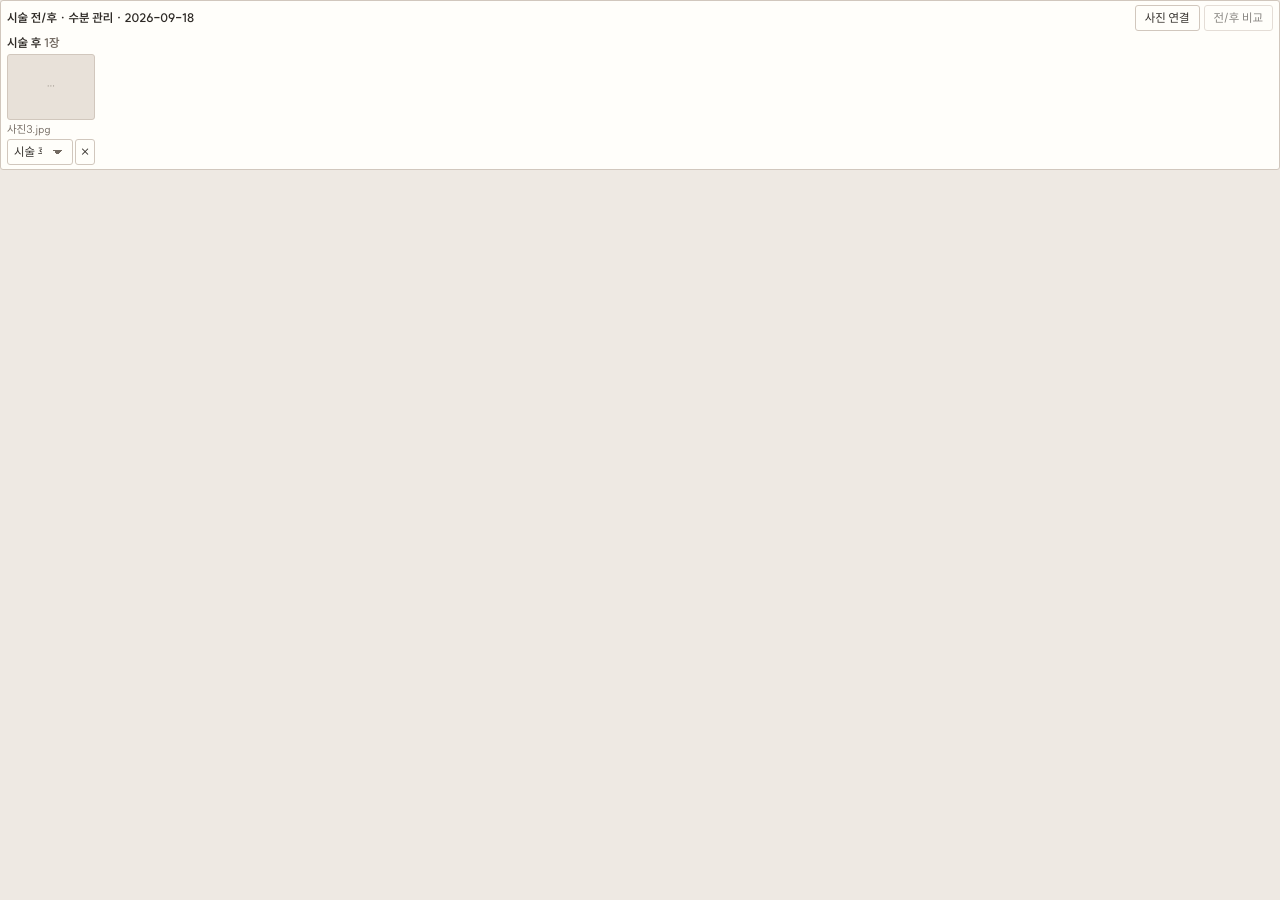
Test case: TreatmentPhotoLinks · 연결·변경·해제 › 고객 사진에서 골라 시술 전으로 연결한다(저장 경로를 재사용하고 중복 업로드 없음)
Expected: the element named "시술 후 사진" is shown, [7,35,95,165]
Click the button "사진 연결": point(1167, 18) [1135,5,1200,31]
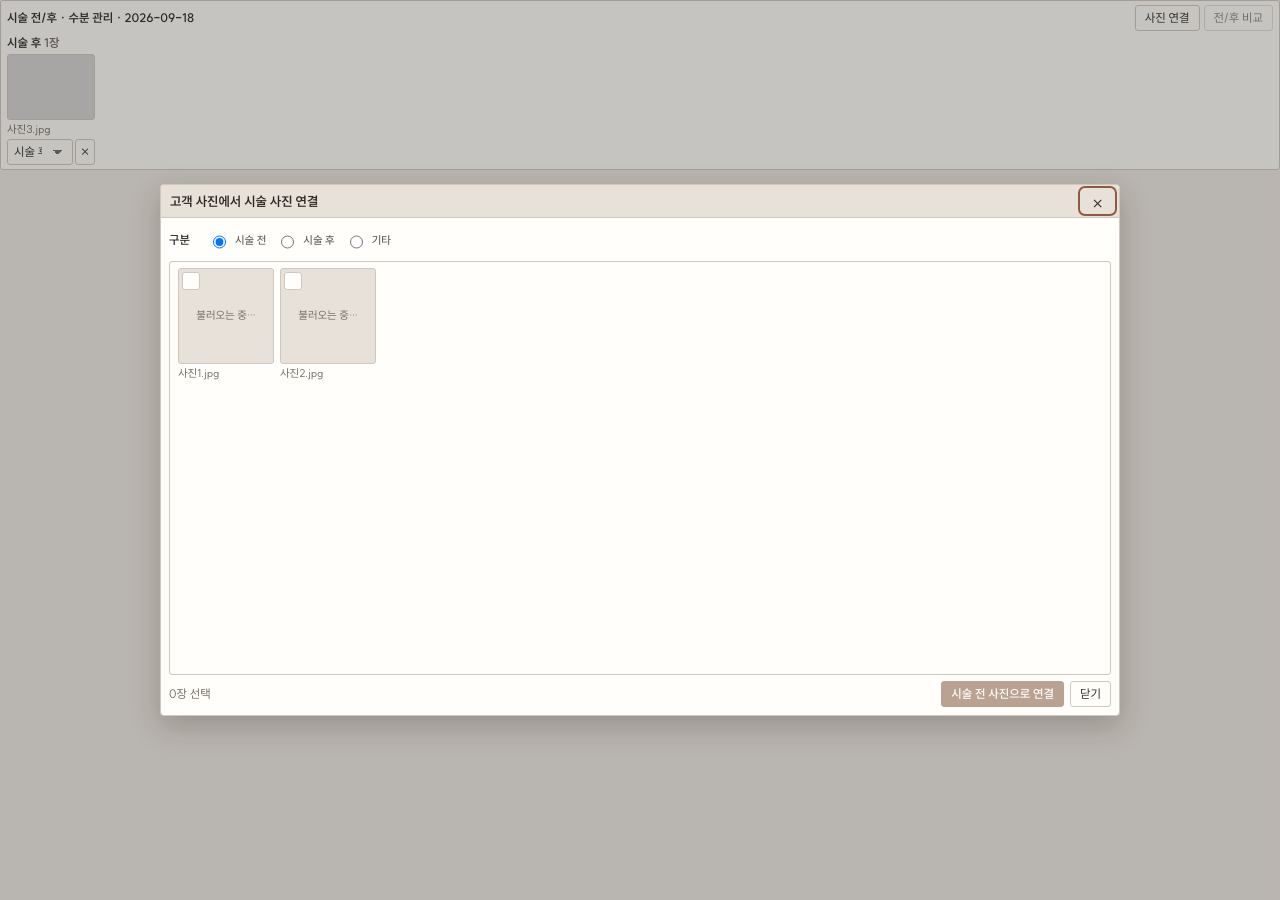
Click the button with aria-label "사진1.jpg 선택": point(226, 316) [178,268,274,364]
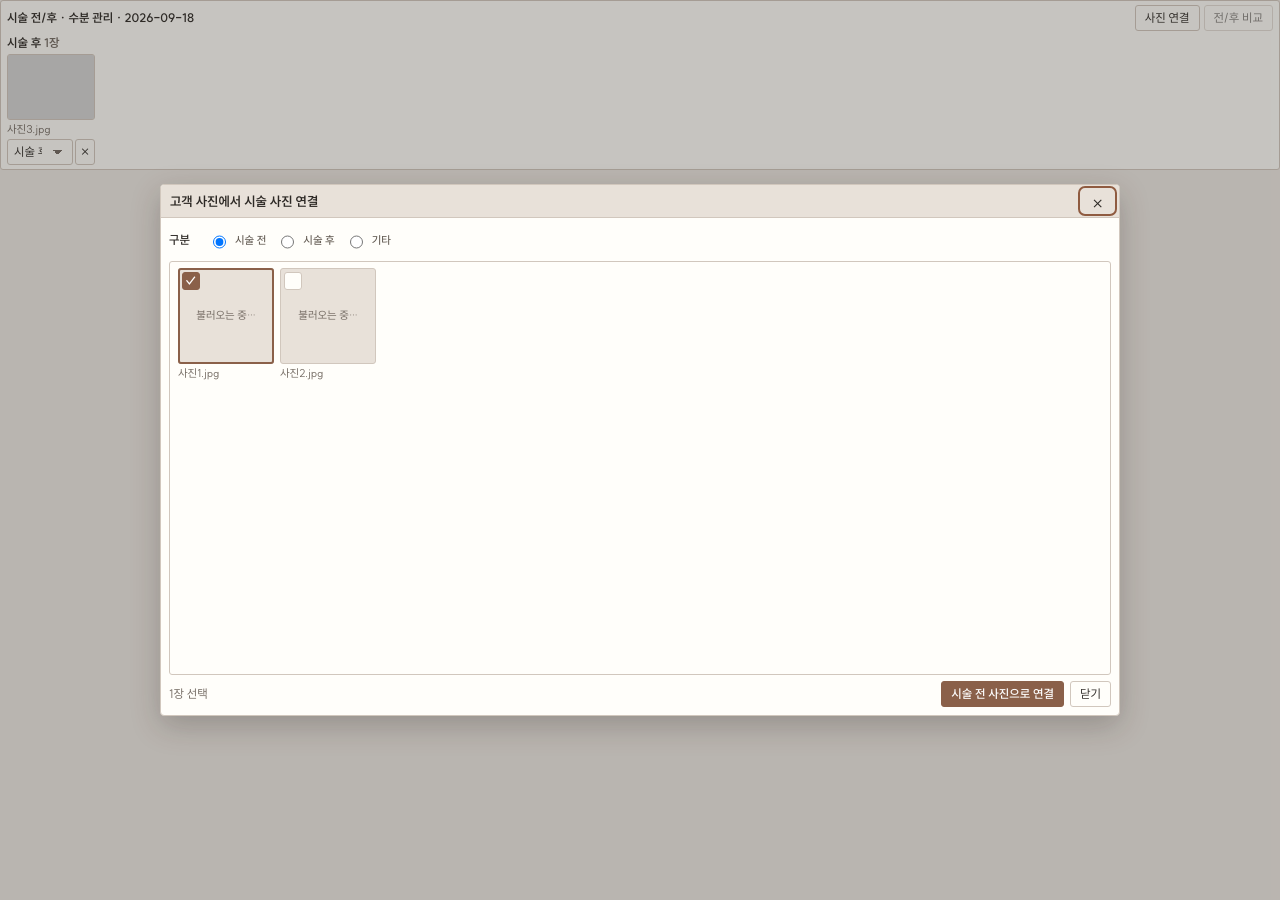
Click the button with aria-label "사진2.jpg 선택": point(328, 316) [280,268,376,364]
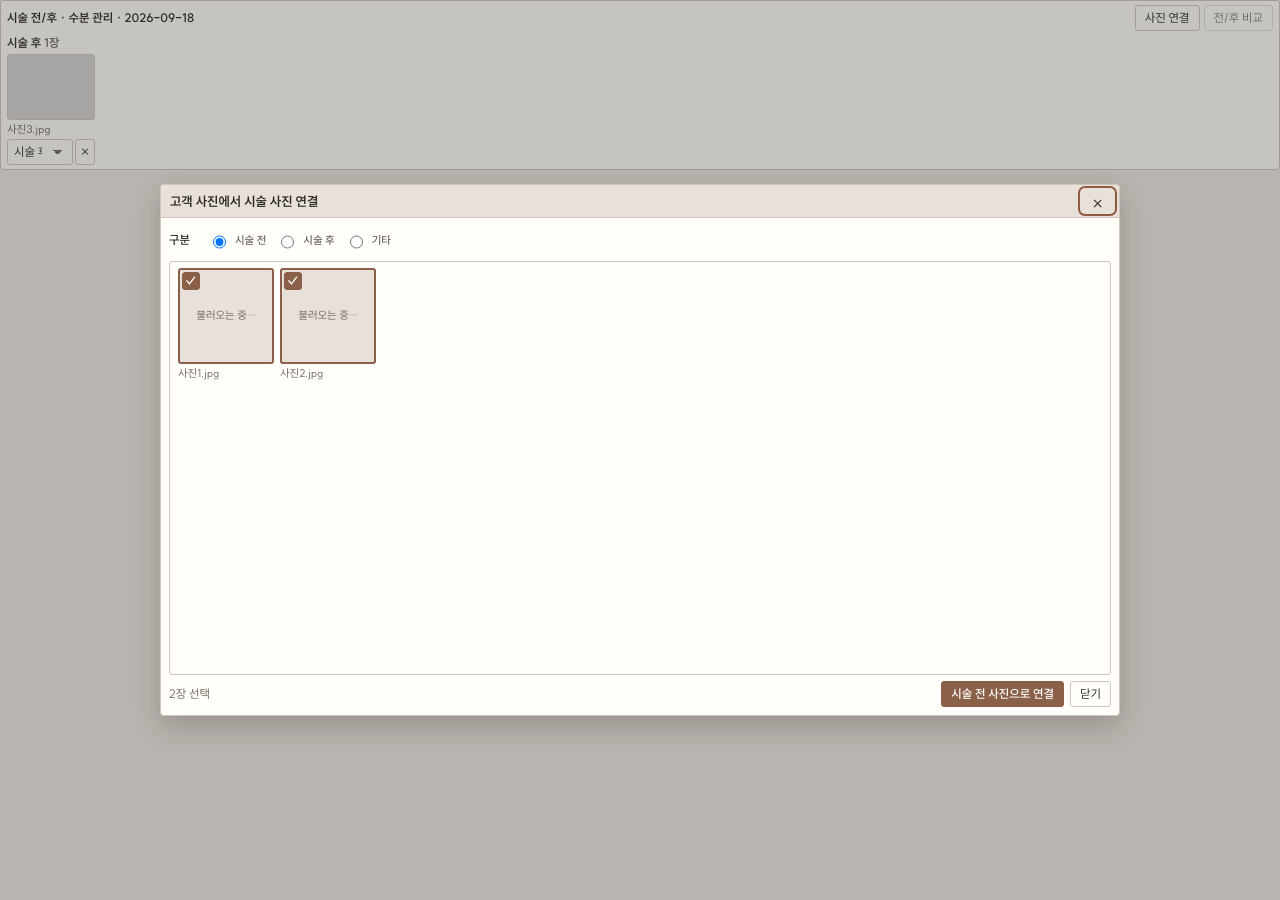
Now the message reads "2장 선택", box [169,686,210,702]
Click the button "시술 전 사진으로 연결": point(1003, 694) [941,681,1064,707]
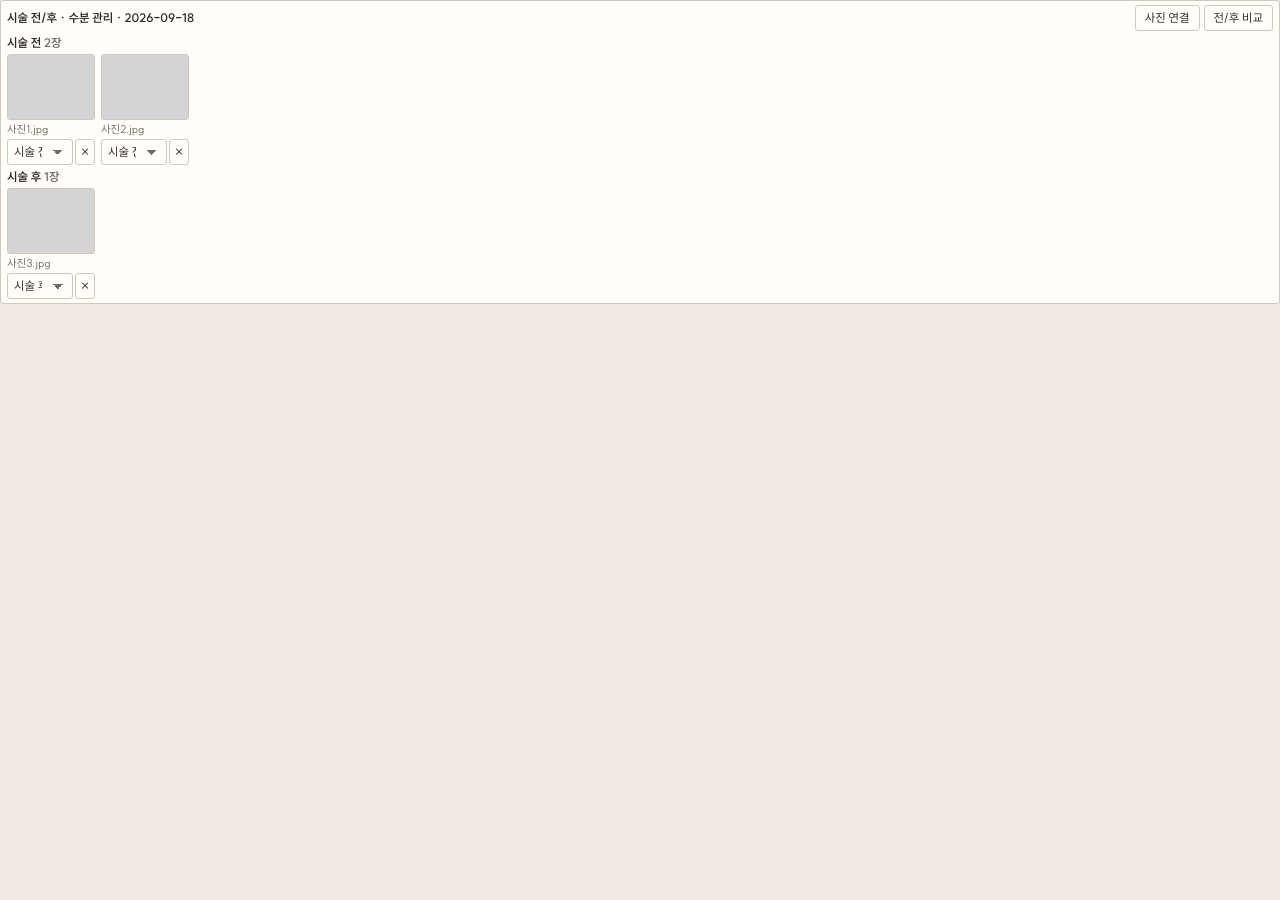
Now the dialog is gone
